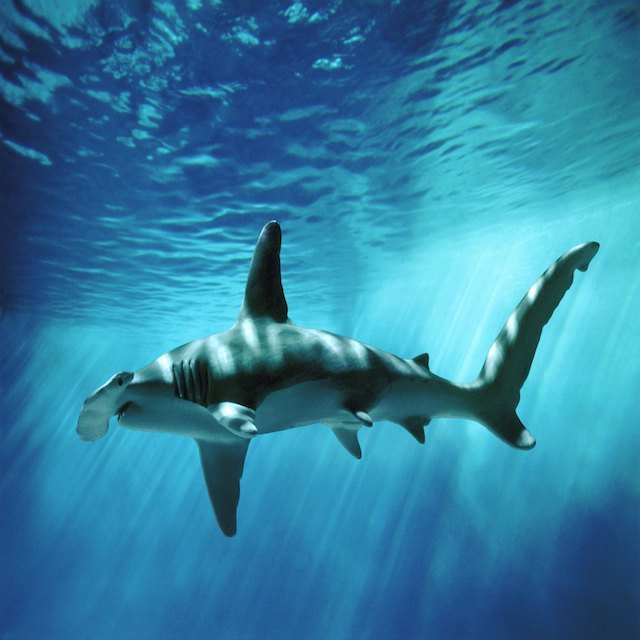hammerhead: (39, 219, 607, 539)
